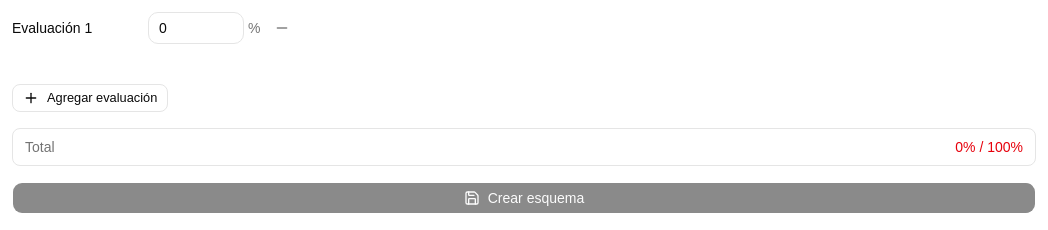
Test: EvaluationSchemeForm — blur validation › shows 'Usa números enteros' on blur with decimal value
The image size is (1048, 230).
Replace the text in the number field with "33.5". click: (196, 28)
box: [148,12,244,44]
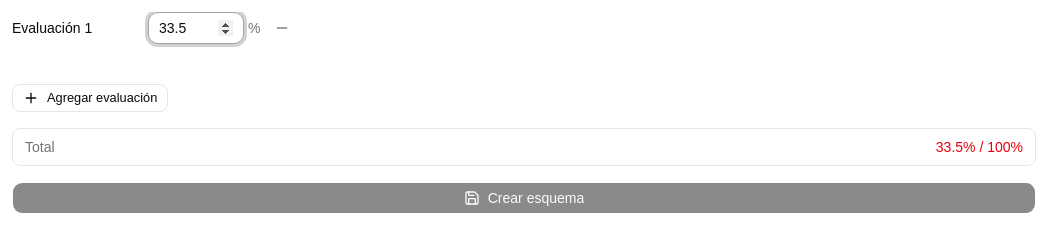
Press Tab
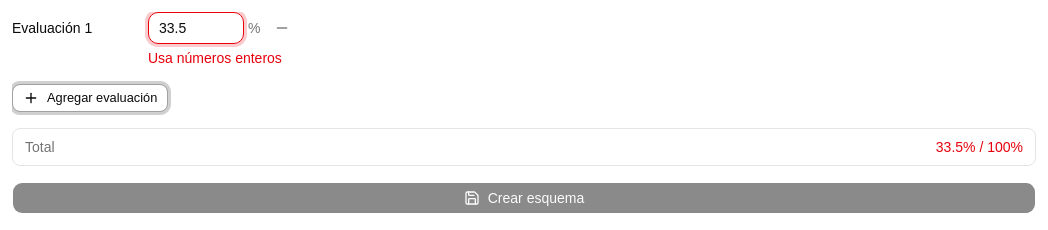
Result: the text "Usa números enteros" is shown at [148,50,282,66]
